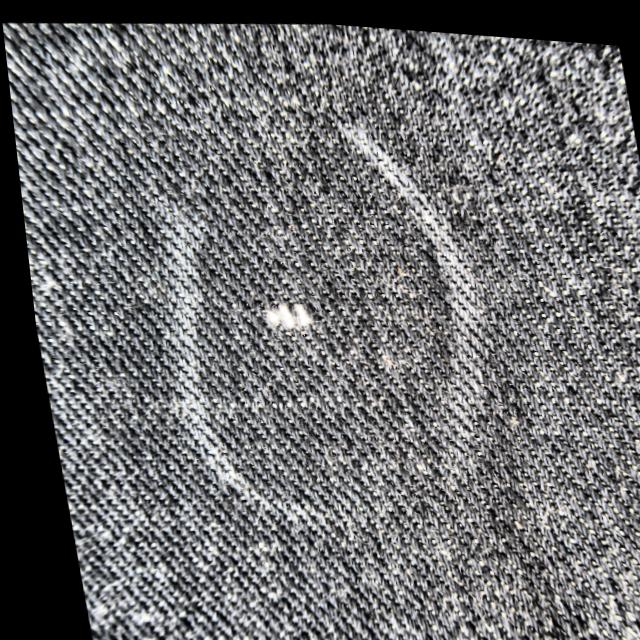Hole: (256, 291, 310, 335)
